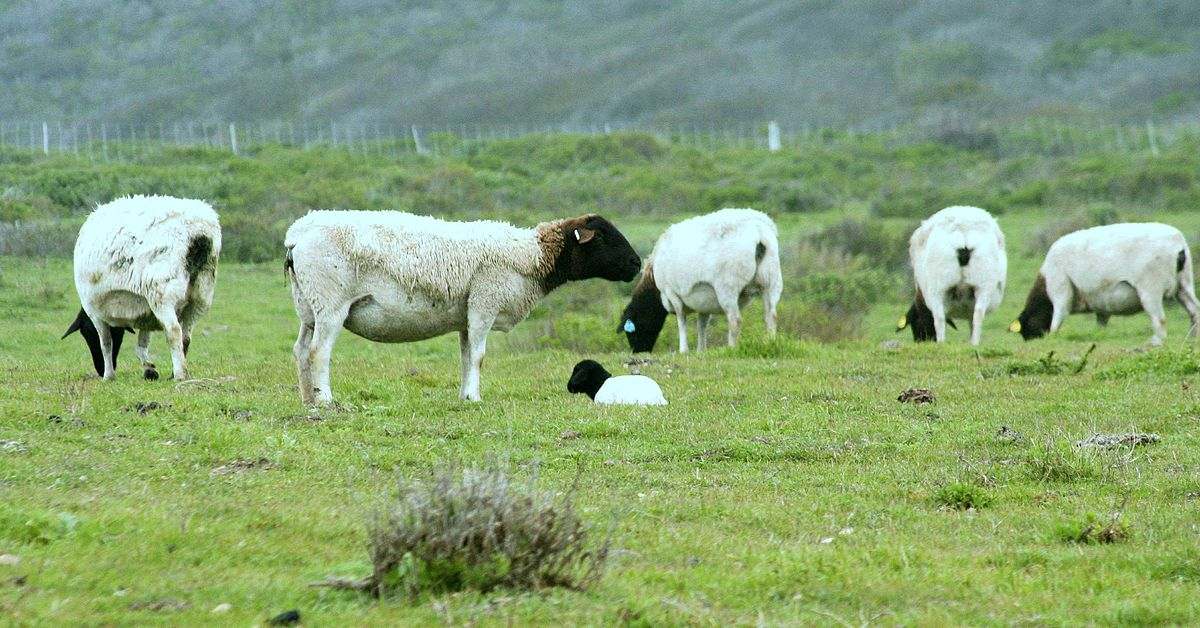sheep: (239, 169, 644, 423), (58, 183, 228, 391), (631, 201, 798, 348), (1016, 221, 1200, 345), (894, 201, 1019, 366), (546, 343, 681, 433)
